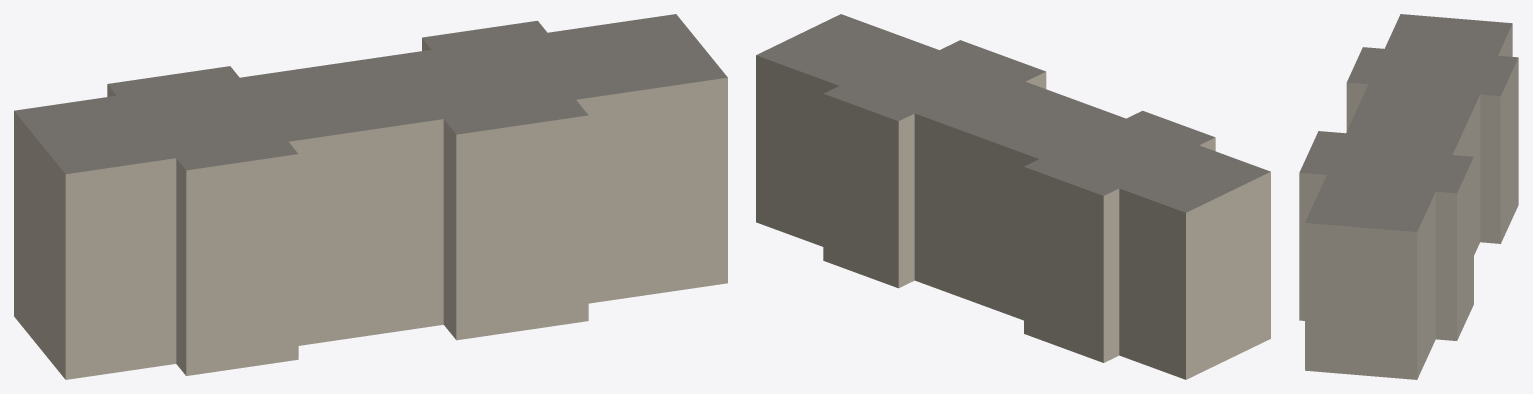
The picture shows the model from 3 angles, left to right: view 1: azimuth 30°, elevation 25°; view 2: azimuth 150°, elevation 25°; view 3: azimuth 270°, elevation 25°; orthographic projection. The views are drawn at different scales.
Parts seen in each view (by area): view 1: HP-w859082575; view 2: HP-w859082575; view 3: HP-w859082575.
Boxes of the visible parts, left/top/right/bottom form: HP-w859082575: left=14, top=14, right=727, bottom=379; HP-w859082575: left=756, top=14, right=1270, bottom=379; HP-w859082575: left=1299, top=14, right=1518, bottom=379.
Bounding box in the file's own units: 56.98 × 18 × 24.19.
